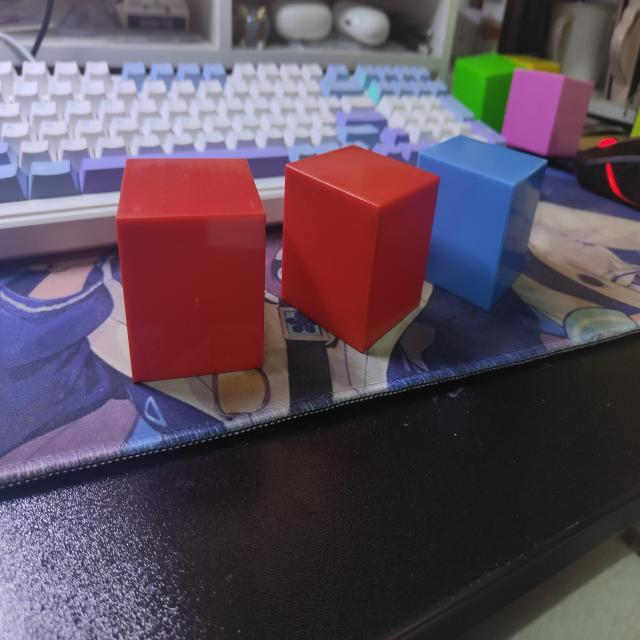blue: (416, 130, 548, 310)
red: (115, 158, 267, 385), (277, 142, 438, 356)
